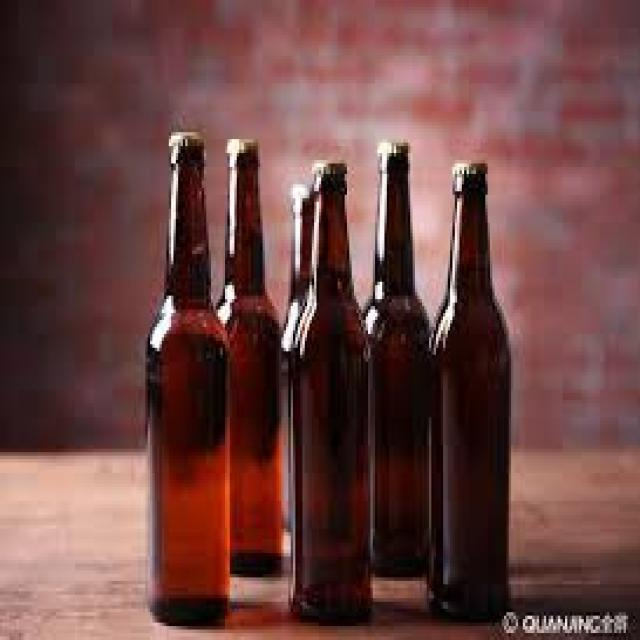glass: (143, 143, 232, 619), (425, 167, 507, 616), (289, 174, 371, 619), (213, 153, 284, 574), (363, 153, 427, 574), (279, 195, 314, 536)
metal: (312, 156, 345, 181), (448, 157, 485, 178), (221, 136, 254, 157), (373, 139, 406, 157), (162, 129, 199, 143), (288, 177, 312, 195)
